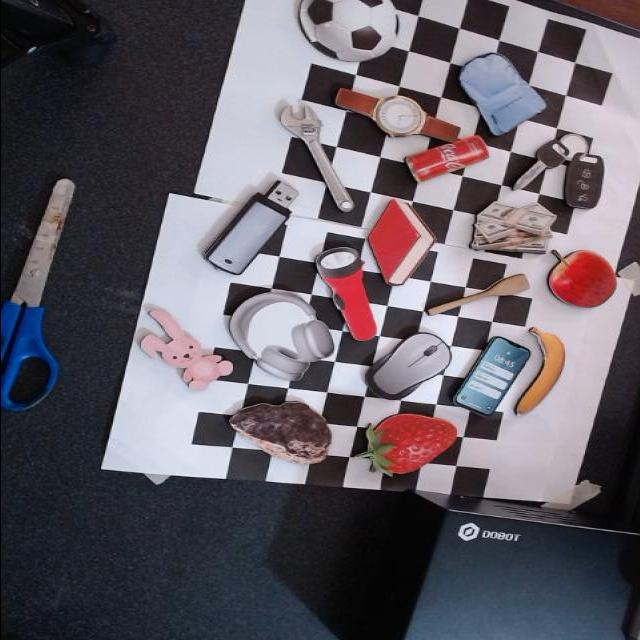Other Objects: (1, 177, 76, 411), (211, 278, 353, 389), (197, 174, 310, 278), (274, 100, 374, 214), (512, 124, 625, 211), (448, 46, 551, 135), (310, 242, 399, 343), (352, 326, 463, 406), (140, 307, 233, 390), (333, 86, 461, 143), (228, 400, 332, 464), (451, 335, 532, 416), (299, 0, 399, 61), (421, 272, 531, 316), (469, 200, 557, 254), (513, 326, 565, 416), (404, 133, 491, 182), (547, 249, 617, 307)
